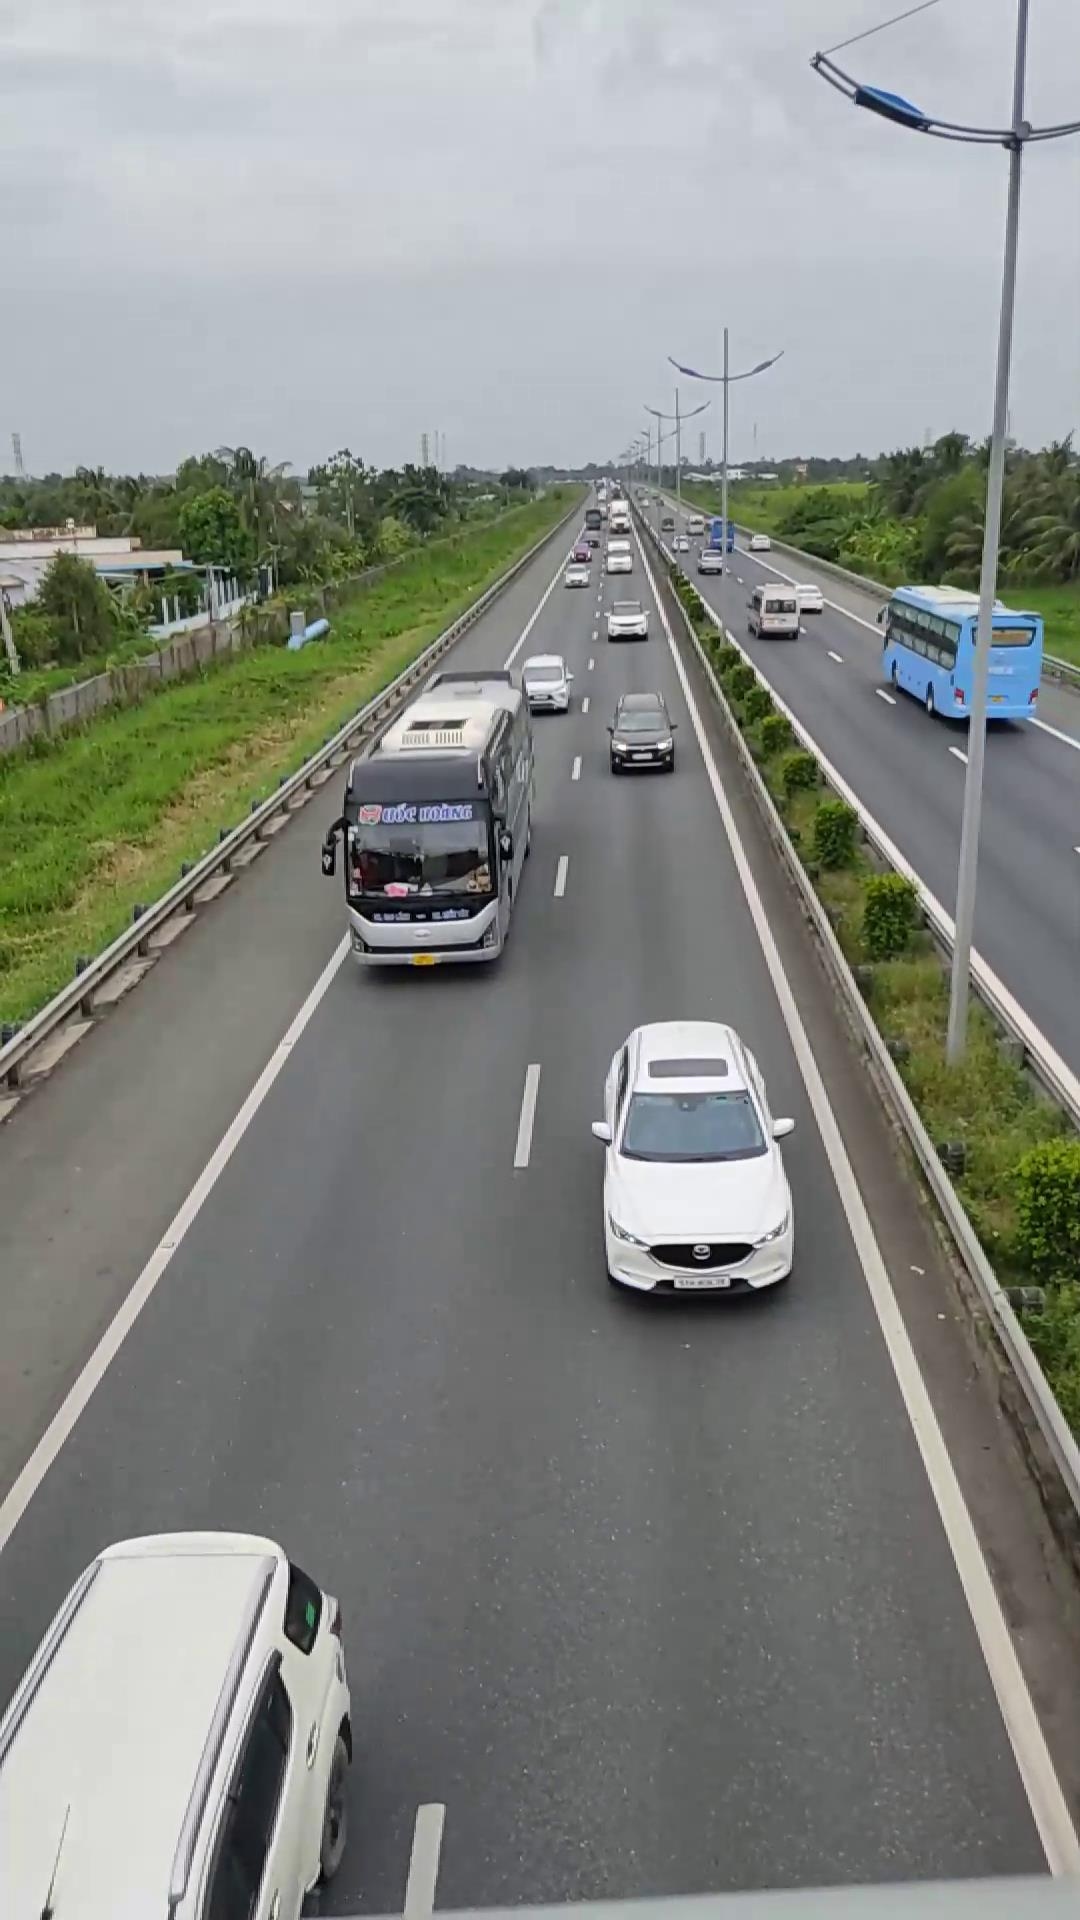bus: (331, 666, 543, 977)
car: (0, 1524, 357, 1917), (589, 1018, 799, 1299), (605, 692, 679, 771), (510, 653, 578, 713)
